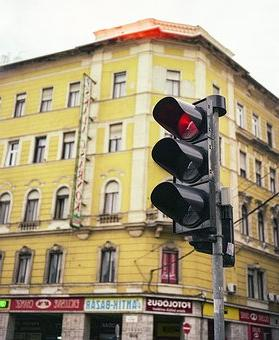trafic: (151, 94, 222, 233)
